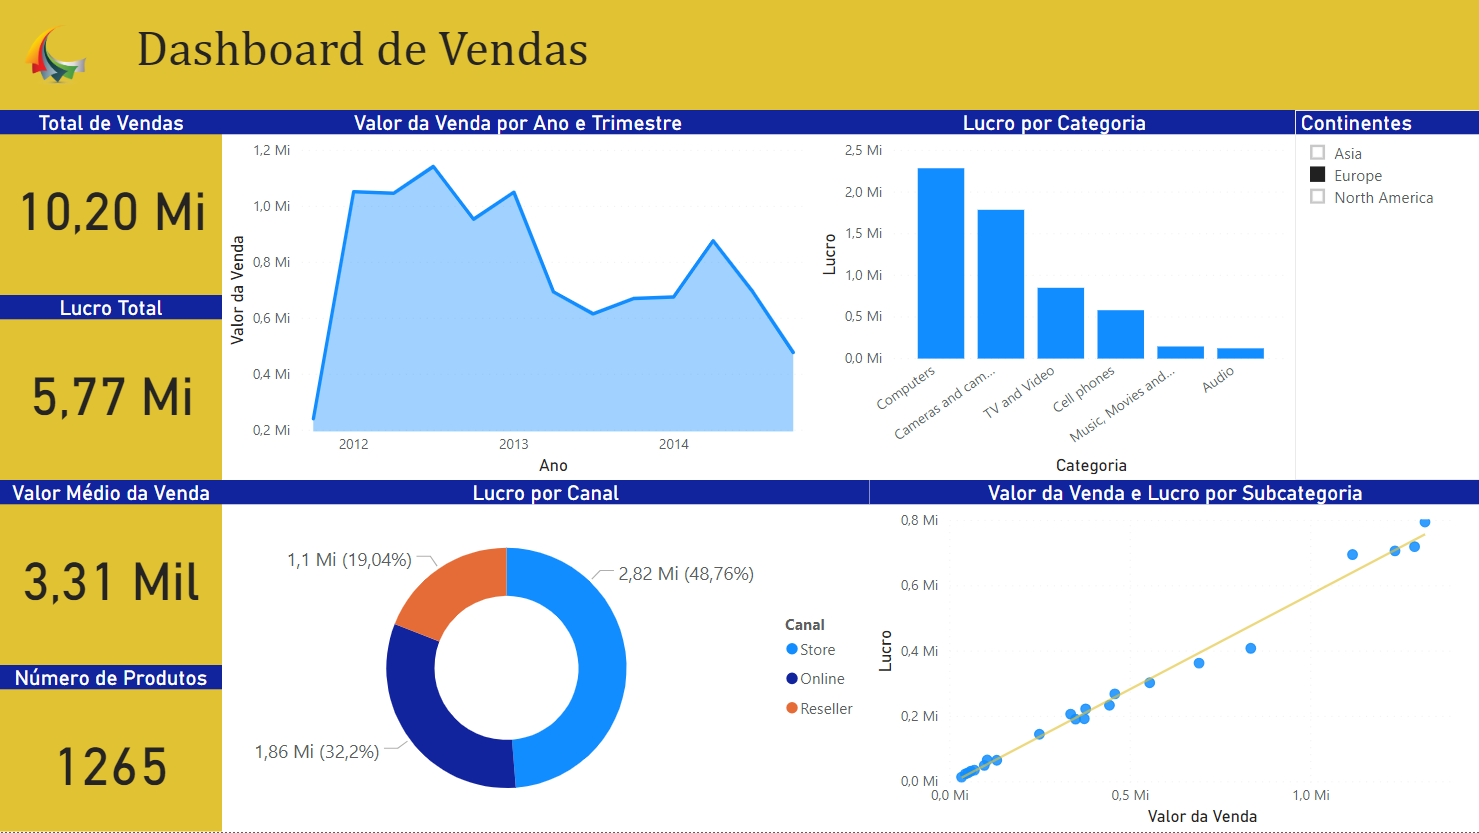

This screenshot's page, from the dashboard's own definition file:
{"tool":"powerbi","page":{"name":"Página 1","canvas":[1280,720],"ordinal":0},"visuals":[{"type":"basicShape","box":[0,0,1280,96],"z":0},{"type":"scatterChart","fields":{"Category":["Data1.Subcategoria"],"X":["Sum(Data1.Valor da Venda)"],"Y":["Sum(Data1.Lucro)"]},"box":[752,416,528,304],"z":1000},{"type":"slicer","title":"Continentes","fields":{"Values":["Data1.Continente"]},"box":[1120,96,160,320],"z":2000},{"type":"areaChart","fields":{"Category":["Data1.Data Venda.Variation.Hierarquia de datas.Ano","Data1.Data Venda.Variation.Hierarquia de datas.Trimestre","Data1.Data Venda.Variation.Hierarquia de datas.Mês","Data1.Data Venda.Variation.Hierarquia de datas.Dia"],"Y":["Sum(Data1.Valor da Venda)"]},"box":[192,96,512,320],"z":3000},{"type":"basicShape","box":[0,96,192,624],"z":4000},{"type":"image","box":[0,16,96,64],"z":5000},{"type":"card","title":"Total de Vendas","fields":{"Values":["Sum(Data1.Valor da Venda)"]},"box":[0,96,192,144],"z":6000},{"type":"textbox","box":[112,16,464,64],"z":7000},{"type":"card","title":"Lucro Total","fields":{"Values":["Sum(Data1.Lucro)"]},"box":[0,256,192,144],"z":8000},{"type":"card","title":"Valor Médio da Venda","fields":{"Values":["Avg(Data1.Valor da Venda)"]},"box":[0,416,192,144],"z":9000},{"type":"card","title":"Número de Produtos","fields":{"Values":["Count(Data1.Produto)"]},"box":[0,576,192,144],"z":10000},{"type":"clusteredColumnChart","fields":{"Category":["Data1.Categoria"],"Y":["Sum(Data1.Lucro)"]},"box":[704,96,416,320],"z":11000},{"type":"donutChart","fields":{"Category":["Data1.Canal"],"Y":["Sum(Data1.Lucro)"]},"box":[192,416,560,304],"z":12000}]}

Visuals, with their boxes in screenshot pixels (x1, y1, x2, y2), scaled from the page's 1280x720 canvas onto the 1479x833 screenshot:
basicShape: locate(0, 0, 1478, 111)
scatterChart - Data1.Subcategoria x Sum(Data1.Valor da Venda): locate(869, 481, 1478, 832)
"Continentes" slicer: locate(1294, 111, 1478, 481)
areaChart - Data1.Data Venda.Variation.Hierarquia de datas.Ano x Data1.Data Venda.Variation.Hierarquia de datas.Trimestre: locate(222, 111, 813, 481)
basicShape: locate(0, 111, 222, 832)
image: locate(0, 19, 111, 93)
"Total de Vendas" card: locate(0, 111, 222, 278)
textbox: locate(129, 19, 666, 93)
"Lucro Total" card: locate(0, 296, 222, 463)
"Valor Médio da Venda" card: locate(0, 481, 222, 648)
"Número de Produtos" card: locate(0, 666, 222, 832)
clusteredColumnChart - Data1.Categoria x Sum(Data1.Lucro): locate(813, 111, 1294, 481)
donutChart - Data1.Canal x Sum(Data1.Lucro): locate(222, 481, 869, 832)
